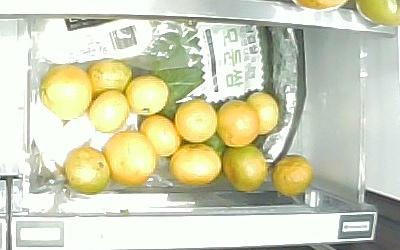tangerine: (41, 63, 91, 122), (104, 132, 156, 186), (64, 145, 111, 196), (168, 144, 222, 186), (222, 144, 269, 191), (218, 99, 259, 148), (271, 154, 316, 198), (89, 89, 129, 134), (175, 100, 217, 142), (125, 75, 168, 116), (138, 116, 180, 157), (86, 58, 132, 93), (247, 92, 280, 136)
